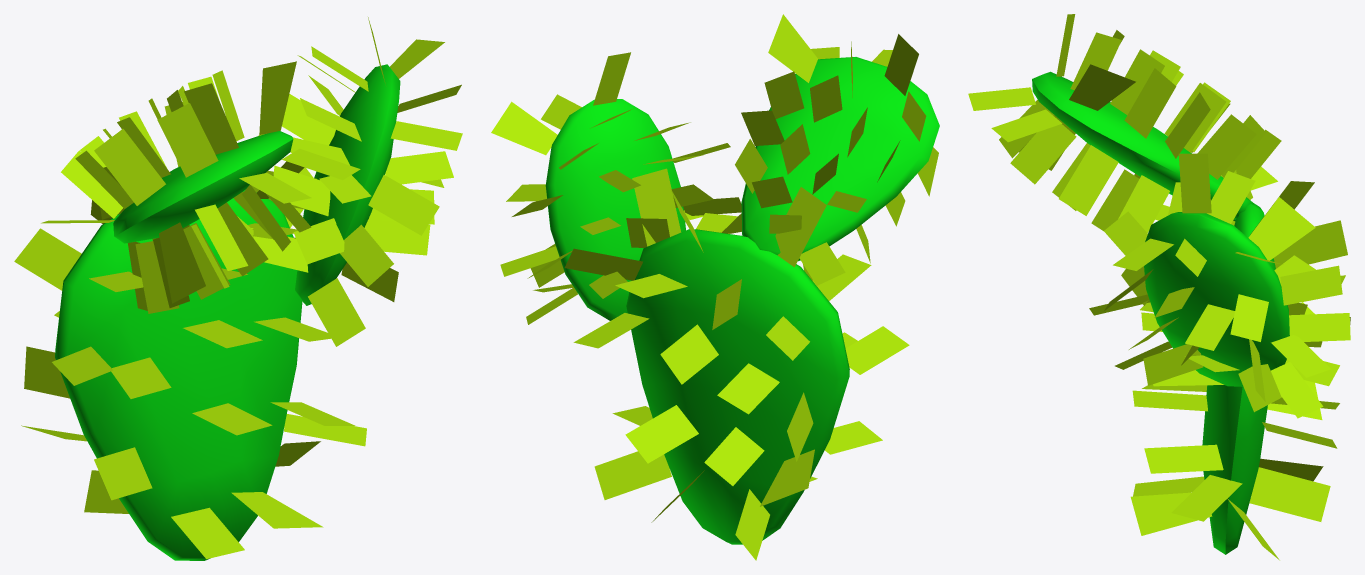
Rendered from CactusFlat1.gltf.
3 views of the same model, side by side, from view 1: azimuth 30°, elevation 25°; view 2: azimuth 150°, elevation 25°; view 3: azimuth 270°, elevation 25° (orthographic). The views are drawn at different scales.
Visible parts, largest first — view 1: Cactus_Flat_1; view 2: Cactus_Flat_1; view 3: Cactus_Flat_1.
Part boxes in pixels (x1,y1,x2,y2): Cactus_Flat_1: (14, 17, 462, 560); Cactus_Flat_1: (491, 14, 939, 560); Cactus_Flat_1: (968, 14, 1350, 560).
Bounding box in the file's own units: 0.8356 × 1.06 × 0.7456.
